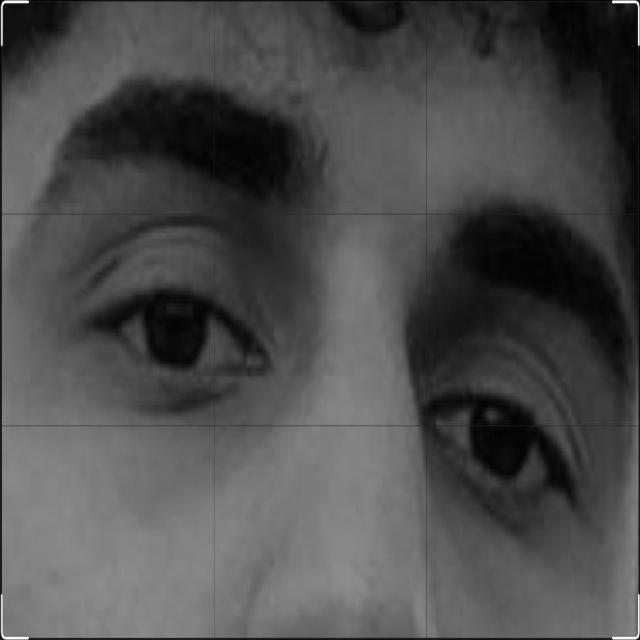real: (38, 128, 618, 592)
